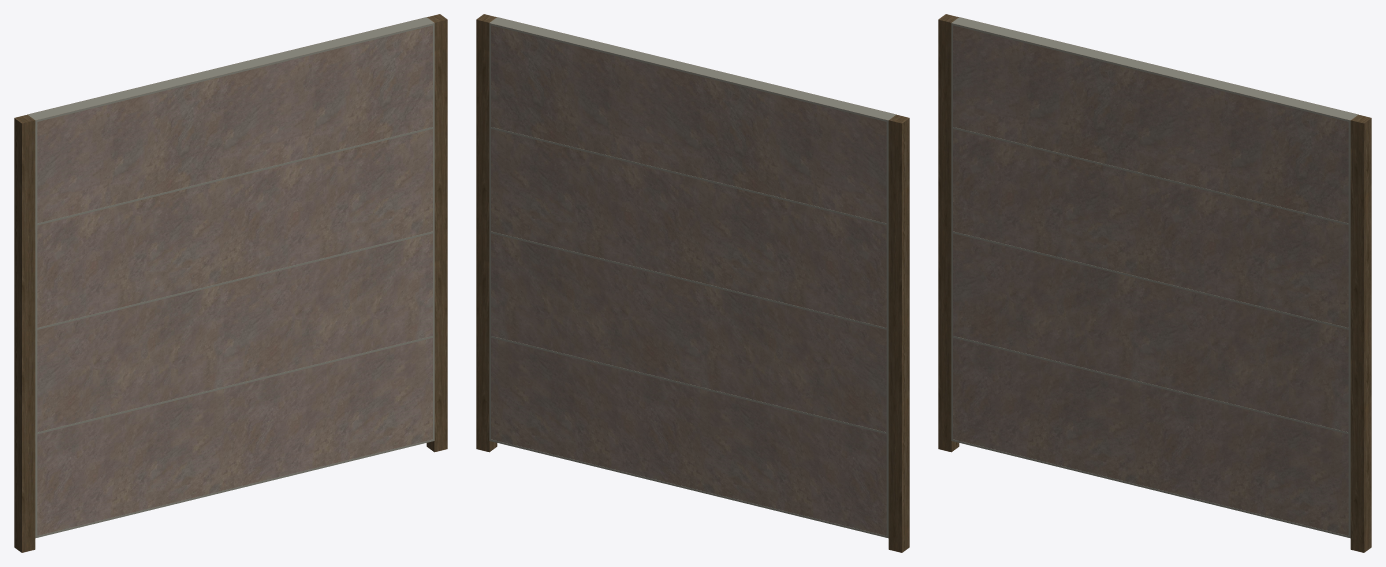
Rendered from ABF1-H1800_slate.fbx.
3 views of the same model, side by side, from view 1: azimuth 30°, elevation 25°; view 2: azimuth 150°, elevation 25°; view 3: azimuth 330°, elevation 25° (orthographic).
Visible parts, largest first — view 1: 1850-1920-60_slate; view 2: 1850-1920-60_slate; view 3: 1850-1920-60_slate.
Boxes of the visible parts, x1,y1,x2,y2 form: 1850-1920-60_slate: [14, 14, 447, 552]; 1850-1920-60_slate: [476, 14, 909, 552]; 1850-1920-60_slate: [938, 14, 1371, 552].
Size of the model in its own units: 192 by 185 by 6.4.
Materials: 5 (4 with a texture image).
